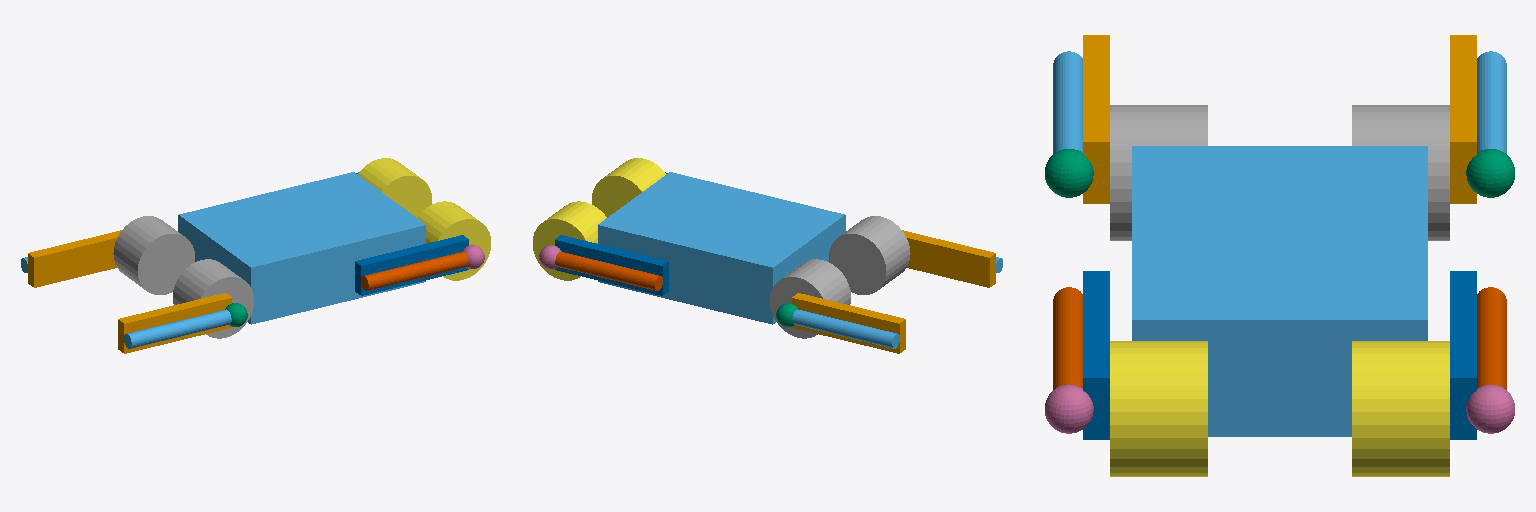
--- Render facts (derived) ---
The picture shows the robot from 3 angles, left to right: view 1: azimuth 30°, elevation 25°; view 2: azimuth 150°, elevation 25°; view 3: azimuth 270°, elevation 25°; orthographic projection.
Model spirit with 19 links and 18 joints (12 revolute, 6 fixed), rooted at body_dummy, posed every joint at zero.
Links seen in each view (by area): view 1: body, hip1, upper1, hip3, hip2, upper2, upper3, hip0, lower3, lower2; view 2: body, hip3, upper3, hip1, hip0, upper0, upper1, hip2, lower1, lower0; view 3: body, hip0, hip2, hip1, hip3, upper0, upper2, upper1, upper3, lower1, lower3, lower0 (+5 smaller).
Link boxes in pixels (box(x1,y1,x2,y2)): body: box(178, 172, 425, 324); hip1: box(113, 216, 194, 294); upper1: box(28, 230, 121, 287); hip3: box(173, 259, 253, 338); hip2: box(417, 201, 490, 280); upper2: box(355, 235, 468, 295); upper3: box(118, 293, 231, 353); hip0: box(358, 158, 431, 217); lower3: box(124, 309, 231, 348); lower2: box(361, 252, 468, 290); body: box(598, 172, 845, 324); hip3: box(829, 216, 910, 294); upper3: box(902, 230, 995, 287); hip1: box(770, 259, 850, 338); hip0: box(533, 201, 606, 280); upper0: box(555, 235, 668, 295); upper1: box(792, 293, 905, 353); hip2: box(592, 158, 665, 217); lower1: box(792, 309, 899, 348); lower0: box(555, 252, 662, 290); body: box(1132, 146, 1427, 436); hip0: box(1352, 341, 1449, 476); hip2: box(1110, 341, 1207, 476); hip1: box(1352, 105, 1449, 240); hip3: box(1110, 105, 1207, 240); upper0: box(1450, 271, 1476, 439); upper2: box(1083, 271, 1109, 439); upper1: box(1450, 35, 1476, 203); upper3: box(1083, 35, 1109, 203); lower1: box(1477, 51, 1506, 153); lower3: box(1053, 51, 1082, 153); lower0: box(1477, 287, 1506, 389).
Size in the robot's own frame: 0.7136 by 0.382 by 0.11 metres.
Geometry: primitives only (box / cylinder / sphere), no mesh files.

robot.urdf — spirit:
<?xml version="1.0" ?>
<!-- =================================================================================== -->
<!-- |    This document was autogenerated by xacro from spirit_gazebo.urdf.xacro     | -->
<!-- |    EDITING THIS FILE BY HAND IS NOT RECOMMENDED                                 | -->
<!-- =================================================================================== -->
<!-- 
MIT License (modified)

Copyright (c) 2020 Ghost Robotics
Authors:
Avik De <[email redacted]>
Tom Jacobs <[email redacted]>

Permission is hereby granted, free of charge, to any person obtaining a copy
of this **file** (the "Software"), to deal
in the Software without restriction, including without limitation the rights
to use, copy, modify, merge, publish, distribute, sublicense, and/or sell
copies of the Software, and to permit persons to whom the Software is
furnished to do so, subject to the following conditions:

The above copyright notice and this permission notice shall be included in all
copies or substantial portions of the Software.

THE SOFTWARE IS PROVIDED "AS IS", WITHOUT WARRANTY OF ANY KIND, EXPRESS OR
IMPLIED, INCLUDING BUT NOT LIMITED TO THE WARRANTIES OF MERCHANTABILITY,
FITNESS FOR A PARTICULAR PURPOSE AND NONINFRINGEMENT. IN NO EVENT SHALL THE
AUTHORS OR COPYRIGHT HOLDERS BE LIABLE FOR ANY CLAIM, DAMAGES OR OTHER
LIABILITY, WHETHER IN AN ACTION OF CONTRACT, TORT OR OTHERWISE, ARISING FROM,
OUT OF OR IN CONNECTION WITH THE SOFTWARE OR THE USE OR OTHER DEALINGS IN THE
SOFTWARE. 
-->
<robot name="spirit" xmlns:xacro="http://www.ros.org/wiki/xacro">
  <!-- Define parameters -->
  <!-- bodyLength + hipdx should be equal to front to back hip distance -->
  <!-- dy +  dPodAxisToEdge + upperLegWidth should be equal to the center to toe distance along y axis-->
  <!-- guess -->
  <!-- guess -->
  <!-- guess -->
  <!-- guess -->
  <!-- guess -->
  <!-- guess -->
  <!--visual only-->
  <!--center of pod cylinder to the ab axis-->

  <link name="body_dummy"/>
  <joint name="dummy_joint" type="fixed">
    <parent link="body_dummy"/>
    <child link="body"/>
    <axis xyz="0 0 0"/>
    <origin xyz="0 0.07 0"/>
  </joint>

  <!-- Body -->
  <link name="body">
    <visual>
      <origin rpy="0 0 0" xyz="0 0 0"/>
      <geometry>
        <box size="0.335 0.24 0.104"/>
      </geometry>
      <material name="darkgray"/>
    </visual>
    <inertial>
      <mass value="5.75"/>
      <!-- Uniform box -->
      <!-- <inertia ixx="1/12*${bodyMass}*(${bodyWidth}*${bodyWidth} + ${bodyHeight}*${bodyHeight})"  ixy="0"  ixz="0" iyy="1/12*${bodyMass}*(${bodyLength}*${bodyLength} + ${bodyHeight}*${bodyHeight})" iyz="0" izz="1/12*${bodyMass}*(${bodyLength}*${bodyLength} + ${bodyWidth}*${bodyWidth})"/> -->
      <inertia ixx="0.05" ixy="0" ixz="0" iyy="0.1" iyz="0" izz="0.1"/>
    </inertial>
    <!-- Just copy geometry for collision -->
    <collision>
      <origin rpy="0 0 0" xyz="0 0 0"/>
      <geometry>
        <box size="0.335 0.24 0.104"/>
      </geometry>
    </collision>
  </link>
  
  <gazebo reference="body">
    <material>Gazebo/Black</material>
  </gazebo>

  <link name="imu_link">
    <visual>
      <origin rpy="0 0 0" xyz="0 0 0"/>
      <geometry>
        <box size="0.05 0.05 0.02"/>
      </geometry>
      <material name="green"/>
    </visual>
  </link>

  <joint name="imu_joint" type="fixed">
    <parent link="body"/>
    <child link="imu_link"/>
    <origin xyz="0 0 0" rpy="0 0 0"/>
  </joint>

  <!-- Define our leg macro -->
  <!-- Our four legs -->
  <!-- Hip motor -->
  <link name="hip0">
    <visual>
      <origin rpy="1.5707963268 0 0" xyz="0.0 0.028 0"/>
      <geometry>
        <cylinder length="0.08" radius="0.055"/>
      </geometry>
    </visual>
    <collision>
      <origin rpy="1.5707963268 0 0" xyz="0 0.028 0"/>
      <geometry>
        <cylinder length="0.08" radius="0.055"/>
      </geometry>
    </collision>
    <inertial>
      <mass value="0.575"/>
      <!-- <inertia ixx="1/12*${podMass}*${podLength}*${podLength} + 1/4*${podMass}*${podRadius}*${podRadius}"  ixy="0"  ixz="0" iyy="1/12*${podMass}*${podLength}*${podLength} + 1/4*${podMass}*${podRadius}*${podRadius}" iyz="0" izz="1/2*${podMass}*${podRadius}*$
				{podRadius}" /> -->
      <inertia ixx="0.00066963541" ixy="0" ixz="0" iyy="0.00066963541" iyz="0" izz="0.0008696875"/>
    </inertial>
  </link>

  <gazebo reference="hip0">
    <material>Gazebo/Grey</material>
  </gazebo>

  <!-- Abduction joint. Joint names are: 8 9 10 11 -->
  <joint name="8" type="revolute">
    <parent link="body"/>
    <child link="hip0"/>
    <axis xyz="1 0 0"/>
    <origin xyz="0.2263 0.07 0"/>
    <limit effort="40" lower="-0.707" upper="0.707" velocity="30"/>
    <dynamics damping="0.0" friction="0.0"/>
  </joint>
  <!-- Transmission elements required for Gazebo -->
  <transmission name="transmission_8">
    <type>transmission_interface/SimpleTransmission</type>
    <joint name="8">
      <hardwareInterface>hardware_interface/EffortJointInterface</hardwareInterface>
    </joint>
    <actuator name="motor_8">
      <hardwareInterface>EffortJointInterface</hardwareInterface>
      <mechanicalReduction>1</mechanicalReduction>
    </actuator>
  </transmission>
  <!-- Upper leg -->
  <link name="upper0">
    <visual>
      <origin rpy="0 0 0" xyz="-0.103 -0.022 0"/>
      <geometry>
        <box size="0.206 0.022 0.055"/>
      </geometry>
      <material name="silver"/>
    </visual>
    <collision>
      <origin rpy="0 0 0" xyz="-0.103 -0.022 0"/>
      <geometry>
        <box size="0.206 0.022 0.055"/>
      </geometry>
    </collision>
    <inertial>
      <mass value="0.775"/>
      <inertia ixx="5e-05" ixy="0" ixz="0" iyy="0.001" iyz="0" izz="0.001"/>
    </inertial>
  </link>
  <gazebo reference="upper0">
    <material>Gazebo/DarkGrey</material>
  </gazebo>
  <!-- Hip joint. (Motor to upper leg). Joint names are: 0 2 4 6 -->
  <joint name="0" type="revolute">
    <parent link="hip0"/>
    <child link="upper0"/>
    <axis xyz="0 -1 0"/>
    <origin xyz="0.0 0.10098 0"/>
    <!--  rpy="0 -0.3 0" -->
    <limit effort="40" lower="-6.28318530718" upper="6.28318530718" velocity="30"/>
    <dynamics damping="0.0" friction="0.0"/>
  </joint>
  <!-- Transmission elements required for Gazebo -->
  <transmission name="transmission_0">
    <type>transmission_interface/SimpleTransmission</type>
    <joint name="0">
      <hardwareInterface>hardware_interface/EffortJointInterface</hardwareInterface>
    </joint>
    <actuator name="motor_0">
      <hardwareInterface>EffortJointInterface</hardwareInterface>
      <mechanicalReduction>1</mechanicalReduction>
    </actuator>
  </transmission>
  <!-- Lower leg -->
  <link name="lower0">
    <visual>
      <origin rpy="0 1.5707963268 0" xyz="0.103 0 0"/>
      <geometry>
        <cylinder length="0.206" radius="0.013"/>
      </geometry>
      <material name="darkgray"/>
    </visual>
    <collision>
      <origin rpy="0 1.5707963268 0" xyz="0.103 0 0"/>
      <geometry>
        <cylinder length="0.206" radius="0.013"/>
      </geometry>
    </collision>
    <inertial>
      <mass value="0.075"/>
      <inertia ixx="5e-06" ixy="0" ixz="0" iyy="0.0001" iyz="0" izz="0.0001"/>
    </inertial>
  </link>
  <gazebo reference="lower0">
    <material>Gazebo/Grey</material>
  </gazebo>
  <!-- Knee joint. Joint names are: 1 3 5 7 -->
  <joint name="1" type="revolute">
    <parent link="upper0"/>
    <child link="lower0"/>
    <axis xyz="0 1 0"/>
    <origin xyz="-0.206 0 0"/>
    <!--rpy="0 0.5 0"-->
    <limit effort="40" lower="0" upper="3.14159265359" velocity="30"/>
    <dynamics damping="0.0" friction="0.0"/>
  </joint>
  <!-- Transmission elements required for Gazebo -->
  <transmission name="transmission_1">
    <type>transmission_interface/SimpleTransmission</type>
    <joint name="1">
      <hardwareInterface>hardware_interface/EffortJointInterface</hardwareInterface>
    </joint>
    <actuator name="motor_1">
      <hardwareInterface>EffortJointInterface</hardwareInterface>
      <mechanicalReduction>1</mechanicalReduction>
    </actuator>
  </transmission>
  <!-- Toe -->
  <link name="toe0">
    <contact>
      <friction_anchor/>
      <stiffness value="30000.0"/>
      <damping value="1000.0"/>
      <spinning_friction value="0.3"/>
      <lateral_friction value="50.0"/>
    </contact>
    <visual>
      <origin rpy="0 0 0" xyz="0 0 0"/>
      <geometry>
        <sphere radius="0.02"/>
      </geometry>
      <material name="darkgray"/>
    </visual>
    <collision>
      <origin rpy="0 0 0" xyz="0 0 0"/>
      <geometry>
        <sphere radius="0.02"/>
      </geometry>
    </collision>
    <inertial>
      <mass value="0.015"/>
      <inertia ixx="0.000025" ixy="0" ixz="0" iyy="0.000025" iyz="0" izz="0.000025"/>
      <!-- <inertia ixx="2/5*${toeMass}*${toeRadius}*${toeRadius}"  ixy="0"  ixz="0" iyy="2/5*${toeMass}*${toeRadius}*${toeRadius}" iyz="0" izz="2/5*${toeMass}*${toeRadius}*${toeRadius}" /> -->
    </inertial>
  </link>
  <gazebo reference="toe0">
    <material>Gazebo/Black</material>
    <collision>
      <surface>
        <bounce>
          <restitution_coefficient>0</restitution_coefficient>
          <threshold>1e+06</threshold>
        </bounce>
        <friction>
          <torsional>
            <coefficient>0.3</coefficient>
          </torsional>
          <ode>
            <mu>100.0</mu>
            <mu2>50.0</mu2>
          </ode>
          <bullet>
            <rolling_friction>0.3</rolling_friction>
            <friction2>50.0</friction2>
          </bullet>
        </friction>
        <contact>
          <bullet>
            <kp>30000.0</kp>
            <kd>1000.0</kd>
          </bullet>
          <ode>
            <kp>30000.0</kp>
            <kd>1000.0</kd>
          </ode>
        </contact>
      </surface>
    </collision>
  </gazebo>
  <joint name="jtoe0" type="fixed">
    <parent link="lower0"/>
    <child link="toe0"/>
    <origin xyz="0.206 0 -0.0"/>
    <dynamics damping="0.0" friction="0.0"/>
  </joint>
  <!-- Hip motor -->
  <link name="hip1">
    <visual>
      <origin rpy="1.5707963268 0 0" xyz="-0.0 0.028 0"/>
      <geometry>
        <cylinder length="0.08" radius="0.055"/>
      </geometry>
    </visual>
    <collision>
      <origin rpy="1.5707963268 0 0" xyz="0 0.028 0"/>
      <geometry>
        <cylinder length="0.08" radius="0.055"/>
      </geometry>
    </collision>
    <inertial>
      <mass value="0.575"/>
      <!-- <inertia ixx="1/12*${podMass}*${podLength}*${podLength} + 1/4*${podMass}*${podRadius}*${podRadius}"  ixy="0"  ixz="0" iyy="1/12*${podMass}*${podLength}*${podLength} + 1/4*${podMass}*${podRadius}*${podRadius}" iyz="0" izz="1/2*${podMass}*${podRadius}*$
				{podRadius}" /> -->
      <inertia ixx="0.00066963541" ixy="0" ixz="0" iyy="0.00066963541" iyz="0" izz="0.0008696875"/>
    </inertial>
  </link>
  <gazebo reference="hip1">
    <material>Gazebo/Grey</material>
  </gazebo>
  <!-- Abduction joint. Joint names are: 8 9 10 11 -->
  <joint name="9" type="revolute">
    <parent link="body"/>
    <child link="hip1"/>
    <axis xyz="1 0 0"/>
    <origin xyz="-0.2263 0.07 0"/>
    <limit effort="40" lower="-0.707" upper="0.707" velocity="30"/>
    <dynamics damping="0.0" friction="0.0"/>
  </joint>
  <!-- Transmission elements required for Gazebo -->
  <transmission name="transmission_9">
    <type>transmission_interface/SimpleTransmission</type>
    <joint name="9">
      <hardwareInterface>hardware_interface/EffortJointInterface</hardwareInterface>
    </joint>
    <actuator name="motor_9">
      <hardwareInterface>EffortJointInterface</hardwareInterface>
      <mechanicalReduction>1</mechanicalReduction>
    </actuator>
  </transmission>
  <!-- Upper leg -->
  <link name="upper1">
    <visual>
      <origin rpy="0 0 0" xyz="-0.103 -0.022 0"/>
      <geometry>
        <box size="0.206 0.022 0.055"/>
      </geometry>
      <material name="silver"/>
    </visual>
    <collision>
      <origin rpy="0 0 0" xyz="-0.103 -0.022 0"/>
      <geometry>
        <box size="0.206 0.022 0.055"/>
      </geometry>
    </collision>
    <inertial>
      <mass value="0.775"/>
      <inertia ixx="5e-05" ixy="0" ixz="0" iyy="0.001" iyz="0" izz="0.001"/>
    </inertial>
  </link>
  <gazebo reference="upper1">
    <material>Gazebo/DarkGrey</material>
  </gazebo>
  <!-- Hip joint. (Motor to upper leg). Joint names are: 0 2 4 6 -->
  <joint name="2" type="revolute">
    <parent link="hip1"/>
    <child link="upper1"/>
    <axis xyz="0 -1 0"/>
    <origin xyz="-0.0 0.10098 0"/>
    <!--  rpy="0 -0.3 0" -->
    <limit effort="40" lower="-6.28318530718" upper="6.28318530718" velocity="30"/>
    <dynamics damping="0.0" friction="0.0"/>
  </joint>
  <!-- Transmission elements required for Gazebo -->
  <transmission name="transmission_2">
    <type>transmission_interface/SimpleTransmission</type>
    <joint name="2">
      <hardwareInterface>hardware_interface/EffortJointInterface</hardwareInterface>
    </joint>
    <actuator name="motor_2">
      <hardwareInterface>EffortJointInterface</hardwareInterface>
      <mechanicalReduction>1</mechanicalReduction>
    </actuator>
  </transmission>
  <!-- Lower leg -->
  <link name="lower1">
    <visual>
      <origin rpy="0 1.5707963268 0" xyz="0.103 0 0"/>
      <geometry>
        <cylinder length="0.206" radius="0.013"/>
      </geometry>
      <material name="darkgray"/>
    </visual>
    <collision>
      <origin rpy="0 1.5707963268 0" xyz="0.103 0 0"/>
      <geometry>
        <cylinder length="0.206" radius="0.013"/>
      </geometry>
    </collision>
    <inertial>
      <mass value="0.075"/>
      <inertia ixx="5e-06" ixy="0" ixz="0" iyy="0.0001" iyz="0" izz="0.0001"/>
    </inertial>
  </link>
  <gazebo reference="lower1">
    <material>Gazebo/Grey</material>
  </gazebo>
  <!-- Knee joint. Joint names are: 1 3 5 7 -->
  <joint name="3" type="revolute">
    <parent link="upper1"/>
    <child link="lower1"/>
    <axis xyz="0 1 0"/>
    <origin xyz="-0.206 0 0"/>
    <!--rpy="0 0.5 0"-->
    <limit effort="40" lower="0" upper="3.14159265359" velocity="30"/>
    <dynamics damping="0.0" friction="0.0"/>
  </joint>
  <!-- Transmission elements required for Gazebo -->
  <transmission name="transmission_3">
    <type>transmission_interface/SimpleTransmission</type>
    <joint name="3">
      <hardwareInterface>hardware_interface/EffortJointInterface</hardwareInterface>
    </joint>
    <actuator name="motor_3">
      <hardwareInterface>EffortJointInterface</hardwareInterface>
      <mechanicalReduction>1</mechanicalReduction>
    </actuator>
  </transmission>
  <!-- Toe -->
  <link name="toe1">
    <contact>
      <friction_anchor/>
      <stiffness value="30000.0"/>
      <damping value="1000.0"/>
      <spinning_friction value="0.3"/>
      <lateral_friction value="50.0"/>
    </contact>
    <visual>
      <origin rpy="0 0 0" xyz="0 0 0"/>
      <geometry>
        <sphere radius="0.02"/>
      </geometry>
      <material name="darkgray"/>
    </visual>
    <collision>
      <origin rpy="0 0 0" xyz="0 0 0"/>
      <geometry>
        <sphere radius="0.02"/>
      </geometry>
    </collision>
    <inertial>
      <mass value="0.015"/>
      <inertia ixx="0.000025" ixy="0" ixz="0" iyy="0.000025" iyz="0" izz="0.000025"/>
      <!-- <inertia ixx="2/5*${toeMass}*${toeRadius}*${toeRadius}"  ixy="0"  ixz="0" iyy="2/5*${toeMass}*${toeRadius}*${toeRadius}" iyz="0" izz="2/5*${toeMass}*${toeRadius}*${toeRadius}" /> -->
    </inertial>
  </link>
  <gazebo reference="toe1">
    <material>Gazebo/Black</material>
    <collision>
      <surface>
        <bounce>
          <restitution_coefficient>0</restitution_coefficient>
          <threshold>1e+06</threshold>
        </bounce>
        <friction>
          <torsional>
            <coefficient>0.3</coefficient>
          </torsional>
          <ode>
            <mu>100.0</mu>
            <mu2>50.0</mu2>
          </ode>
          <bullet>
            <rolling_friction>0.3</rolling_friction>
            <friction2>50.0</friction2>
          </bullet>
        </friction>
        <contact>
          <bullet>
            <kp>30000.0</kp>
            <kd>1000.0</kd>
          </bullet>
          <ode>
            <kp>30000.0</kp>
            <kd>1000.0</kd>
          </ode>
        </contact>
      </surface>
    </collision>
  </gazebo>
  <joint name="jtoe1" type="fixed">
    <parent link="lower1"/>
    <child link="toe1"/>
    <origin xyz="0.206 0 -0.0"/>
    <dynamics damping="0.0" friction="0.0"/>
  </joint>
  <!-- Hip motor -->
  <link name="hip2">
    <visual>
      <origin rpy="1.5707963268 0 0" xyz="0.0 -0.028 0"/>
      <geometry>
        <cylinder length="0.08" radius="0.055"/>
      </geometry>
    </visual>
    <collision>
      <origin rpy="1.5707963268 0 0" xyz="0 -0.028 0"/>
      <geometry>
        <cylinder length="0.08" radius="0.055"/>
      </geometry>
    </collision>
    <inertial>
      <mass value="0.575"/>
      <!-- <inertia ixx="1/12*${podMass}*${podLength}*${podLength} + 1/4*${podMass}*${podRadius}*${podRadius}"  ixy="0"  ixz="0" iyy="1/12*${podMass}*${podLength}*${podLength} + 1/4*${podMass}*${podRadius}*${podRadius}" iyz="0" izz="1/2*${podMass}*${podRadius}*$
				{podRadius}" /> -->
      <inertia ixx="0.00066963541" ixy="0" ixz="0" iyy="0.00066963541" iyz="0" izz="0.0008696875"/>
    </inertial>
  </link>
  <gazebo reference="hip2">
    <material>Gazebo/Grey</material>
  </gazebo>
  <!-- Abduction joint. Joint names are: 8 9 10 11 -->
  <joint name="10" type="revolute">
    <parent link="body"/>
    <child link="hip2"/>
    <axis xyz="1 0 0"/>
    <origin xyz="0.2263 -0.07 0"/>
    <limit effort="40" lower="-0.707" upper="0.707" velocity="30"/>
    <dynamics damping="0.0" friction="0.0"/>
  </joint>
  <!-- Transmission elements required for Gazebo -->
  <transmission name="transmission_10">
    <type>transmission_interface/SimpleTransmission</type>
    <joint name="10">
      <hardwareInterface>hardware_interface/EffortJointInterface</hardwareInterface>
    </joint>
    <actuator name="motor_10">
      <hardwareInterface>EffortJointInterface</hardwareInterface>
      <mechanicalReduction>1</mechanicalReduction>
    </actuator>
  </transmission>
  <!-- Upper leg -->
  <link name="upper2">
    <visual>
      <origin rpy="0 0 0" xyz="-0.103 0.022 0"/>
      <geometry>
        <box size="0.206 0.022 0.055"/>
      </geometry>
      <material name="silver"/>
    </visual>
    <collision>
      <origin rpy="0 0 0" xyz="-0.103 0.022 0"/>
      <geometry>
        <box size="0.206 0.022 0.055"/>
      </geometry>
    </collision>
    <inertial>
      <mass value="0.775"/>
      <inertia ixx="5e-05" ixy="0" ixz="0" iyy="0.001" iyz="0" izz="0.001"/>
    </inertial>
  </link>
  <gazebo reference="upper2">
    <material>Gazebo/DarkGrey</material>
  </gazebo>
  <!-- Hip joint. (Motor to upper leg). Joint names are: 0 2 4 6 -->
  <joint name="4" type="revolute">
    <parent link="hip2"/>
    <child link="upper2"/>
    <axis xyz="0 -1 0"/>
    <origin xyz="0.0 -0.10098 0"/>
    <!--  rpy="0 -0.3 0" -->
    <limit effort="40" lower="-6.28318530718" upper="6.28318530718" velocity="30"/>
    <dynamics damping="0.0" friction="0.0"/>
  </joint>
  <!-- Transmission elements required for Gazebo -->
  <transmission name="transmission_4">
    <type>transmission_interface/SimpleTransmission</type>
    <joint name="4">
      <hardwareInterface>hardware_interface/EffortJointInterface</hardwareInterface>
    </joint>
    <actuator name="motor_4">
      <hardwareInterface>EffortJointInterface</hardwareInterface>
      <mechanicalReduction>1</mechanicalReduction>
    </actuator>
  </transmission>
  <!-- Lower leg -->
  <link name="lower2">
    <visual>
      <origin rpy="0 1.5707963268 0" xyz="0.103 0 0"/>
      <geometry>
        <cylinder length="0.206" radius="0.013"/>
      </geometry>
      <material name="darkgray"/>
    </visual>
    <collision>
      <origin rpy="0 1.5707963268 0" xyz="0.103 0 0"/>
      <geometry>
        <cylinder length="0.206" radius="0.013"/>
      </geometry>
    </collision>
    <inertial>
      <mass value="0.075"/>
      <inertia ixx="5e-06" ixy="0" ixz="0" iyy="0.0001" iyz="0" izz="0.0001"/>
    </inertial>
  </link>
  <gazebo reference="lower2">
    <material>Gazebo/Grey</material>
  </gazebo>
  <!-- Knee joint. Joint names are: 1 3 5 7 -->
  <joint name="5" type="revolute">
    <parent link="upper2"/>
    <child link="lower2"/>
    <axis xyz="0 1 0"/>
    <origin xyz="-0.206 0 0"/>
    <!--rpy="0 0.5 0"-->
    <limit effort="40" lower="0" upper="3.14159265359" velocity="30"/>
    <dynamics damping="0.0" friction="0.0"/>
  </joint>
  <!-- Transmission elements required for Gazebo -->
  <transmission name="transmission_5">
    <type>transmission_interface/SimpleTransmission</type>
    <joint name="5">
      <hardwareInterface>hardware_interface/EffortJointInterface</hardwareInterface>
    </joint>
    <actuator name="motor_5">
      <hardwareInterface>EffortJointInterface</hardwareInterface>
      <mechanicalReduction>1</mechanicalReduction>
    </actuator>
  </transmission>
  <!-- Toe -->
  <link name="toe2">
    <contact>
      <friction_anchor/>
      <stiffness value="30000.0"/>
      <damping value="1000.0"/>
      <spinning_friction value="0.3"/>
      <lateral_friction value="50.0"/>
    </contact>
    <visual>
      <origin rpy="0 0 0" xyz="0 0 0"/>
      <geometry>
        <sphere radius="0.02"/>
      </geometry>
      <material name="darkgray"/>
    </visual>
    <collision>
      <origin rpy="0 0 0" xyz="0 0 0"/>
      <geometry>
        <sphere radius="0.02"/>
      </geometry>
    </collision>
    <inertial>
      <mass value="0.015"/>
      <inertia ixx="0.000025" ixy="0" ixz="0" iyy="0.000025" iyz="0" izz="0.000025"/>
      <!-- <inertia ixx="2/5*${toeMass}*${toeRadius}*${toeRadius}"  ixy="0"  ixz="0" iyy="2/5*${toeMass}*${toeRadius}*${toeRadius}" iyz="0" izz="2/5*${toeMass}*${toeRadius}*${toeRadius}" /> -->
    </inertial>
  </link>
  <gazebo reference="toe2">
    <material>Gazebo/Black</material>
    <collision>
      <surface>
        <bounce>
          <restitution_coefficient>0</restitution_coefficient>
          <threshold>1e+06</threshold>
        </bounce>
        <friction>
          <torsional>
            <coefficient>0.3</coefficient>
          </torsional>
          <ode>
            <mu>100.0</mu>
            <mu2>50.0</mu2>
          </ode>
          <bullet>
            <rolling_friction>0.3</rolling_friction>
            <friction2>50.0</friction2>
          </bullet>
        </friction>
        <contact>
          <bullet>
            <kp>30000.0</kp>
            <kd>1000.0</kd>
          </bullet>
          <ode>
            <kp>30000.0</kp>
            <kd>1000.0</kd>
          </ode>
        </contact>
      </surface>
    </collision>
  </gazebo>
  <joint name="jtoe2" type="fixed">
    <parent link="lower2"/>
    <child link="toe2"/>
    <origin xyz="0.206 0 -0.0"/>
    <dynamics damping="0.0" friction="0.0"/>
  </joint>
  <!-- Hip motor -->
  <link name="hip3">
    <visual>
      <origin rpy="1.5707963268 0 0" xyz="-0.0 -0.028 0"/>
      <geometry>
        <cylinder length="0.08" radius="0.055"/>
      </geometry>
    </visual>
    <collision>
      <origin rpy="1.5707963268 0 0" xyz="0 -0.028 0"/>
      <geometry>
        <cylinder length="0.08" radius="0.055"/>
      </geometry>
    </collision>
    <inertial>
      <mass value="0.575"/>
      <!-- <inertia ixx="1/12*${podMass}*${podLength}*${podLength} + 1/4*${podMass}*${podRadius}*${podRadius}"  ixy="0"  ixz="0" iyy="1/12*${podMass}*${podLength}*${podLength} + 1/4*${podMass}*${podRadius}*${podRadius}" iyz="0" izz="1/2*${podMass}*${podRadius}*$
				{podRadius}" /> -->
      <inertia ixx="0.00066963541" ixy="0" ixz="0" iyy="0.00066963541" iyz="0" izz="0.0008696875"/>
    </inertial>
  </link>
  <gazebo reference="hip3">
    <material>Gazebo/Grey</material>
  </gazebo>
  <!-- Abduction joint. Joint names are: 8 9 10 11 -->
  <joint name="11" type="revolute">
    <parent link="body"/>
    <child link="hip3"/>
    <axis xyz="1 0 0"/>
    <origin xyz="-0.2263 -0.07 0"/>
    <limit effort="40" lower="-0.707" upper="0.707" velocity="30"/>
    <dynamics damping="0.0" friction="0.0"/>
  </joint>
  <!-- Transmission elements required for Gazebo -->
  <transmission name="transmission_11">
    <type>transmission_interface/SimpleTransmission</type>
    <joint name="11">
      <hardwareInterface>hardware_interface/EffortJointInterface</hardwareInterface>
    </joint>
    <actuator name="motor_11">
      <hardwareInterface>EffortJointInterface</hardwareInterface>
      <mechanicalReduction>1</mechanicalReduction>
    </actuator>
  </transmission>
  <!-- Upper leg -->
  <link name="upper3">
    <visual>
      <origin rpy="0 0 0" xyz="-0.103 0.022 0"/>
      <geometry>
        <box size="0.206 0.022 0.055"/>
      </geometry>
      <material name="silver"/>
    </visual>
    <collision>
      <origin rpy="0 0 0" xyz="-0.103 0.022 0"/>
      <geometry>
        <box size="0.206 0.022 0.055"/>
      </geometry>
    </collision>
    <inertial>
      <mass value="0.775"/>
      <inertia ixx="5e-05" ixy="0" ixz="0" iyy="0.001" iyz="0" izz="0.001"/>
    </inertial>
  </link>
  <gazebo reference="upper3">
    <material>Gazebo/DarkGrey</material>
  </gazebo>
  <!-- Hip joint. (Motor to upper leg). Joint names are: 0 2 4 6 -->
  <joint name="6" type="revolute">
    <parent link="hip3"/>
    <child link="upper3"/>
    <axis xyz="0 -1 0"/>
    <origin xyz="-0.0 -0.10098 0"/>
    <!--  rpy="0 -0.3 0" -->
    <limit effort="40" lower="-6.28318530718" upper="6.28318530718" velocity="30"/>
    <dynamics damping="0.0" friction="0.0"/>
  </joint>
  <!-- Transmission elements required for Gazebo -->
  <transmission name="transmission_6">
    <type>transmission_interface/SimpleTransmission</type>
    <joint name="6">
      <hardwareInterface>hardware_interface/EffortJointInterface</hardwareInterface>
    </joint>
    <actuator name="motor_6">
      <hardwareInterface>EffortJointInterface</hardwareInterface>
      <mechanicalReduction>1</mechanicalReduction>
    </actuator>
  </transmission>
  <!-- Lower leg -->
  <link name="lower3">
    <visual>
      <origin rpy="0 1.5707963268 0" xyz="0.103 0 0"/>
      <geometry>
        <cylinder length="0.206" radius="0.013"/>
      </geometry>
      <material name="darkgray"/>
    </visual>
    <collision>
      <origin rpy="0 1.5707963268 0" xyz="0.103 0 0"/>
      <geometry>
        <cylinder length="0.206" radius="0.013"/>
      </geometry>
    </collision>
    <inertial>
      <mass value="0.075"/>
      <inertia ixx="5e-06" ixy="0" ixz="0" iyy="0.0001" iyz="0" izz="0.0001"/>
    </inertial>
  </link>
  <gazebo reference="lower3">
    <material>Gazebo/Grey</material>
  </gazebo>
  <!-- Knee joint. Joint names are: 1 3 5 7 -->
  <joint name="7" type="revolute">
    <parent link="upper3"/>
    <child link="lower3"/>
    <axis xyz="0 1 0"/>
    <origin xyz="-0.206 0 0"/>
    <!--rpy="0 0.5 0"-->
    <limit effort="40" lower="0" upper="3.14159265359" velocity="30"/>
    <dynamics damping="0.0" friction="0.0"/>
  </joint>
  <!-- Transmission elements required for Gazebo -->
  <transmission name="transmission_7">
    <type>transmission_interface/SimpleTransmission</type>
    <joint name="7">
      <hardwareInterface>hardware_interface/EffortJointInterface</hardwareInterface>
    </joint>
    <actuator name="motor_7">
      <hardwareInterface>EffortJointInterface</hardwareInterface>
      <mechanicalReduction>1</mechanicalReduction>
    </actuator>
  </transmission>
  <!-- Toe -->
  <link name="toe3">
    <contact>
      <friction_anchor/>
      <stiffness value="30000.0"/>
      <damping value="1000.0"/>
      <spinning_friction value="0.3"/>
      <lateral_friction value="50.0"/>
    </contact>
    <visual>
      <origin rpy="0 0 0" xyz="0 0 0"/>
      <geometry>
        <sphere radius="0.02"/>
      </geometry>
      <material name="darkgray"/>
    </visual>
    <collision>
      <origin rpy="0 0 0" xyz="0 0 0"/>
      <geometry>
        <sphere radius="0.02"/>
      </geometry>
    </collision>
    <inertial>
      <mass value="0.015"/>
      <inertia ixx="0.000025" ixy="0" ixz="0" iyy="0.000025" iyz="0" izz="0.000025"/>
      <!-- <inertia ixx="2/5*${toeMass}*${toeRadius}*${toeRadius}"  ixy="0"  ixz="0" iyy="2/5*${toeMass}*${toeRadius}*${toeRadius}" iyz="0" izz="2/5*${toeMass}*${toeRadius}*${toeRadius}" /> -->
    </inertial>
  </link>
  <gazebo reference="toe3">
    <material>Gazebo/Black</material>
    <collision>
      <surface>
        <bounce>
          <restitution_coefficient>0</restitution_coefficient>
          <threshold>1e+06</threshold>
        </bounce>
        <friction>
          <torsional>
            <coefficient>0.3</coefficient>
          </torsional>
          <ode>
            <mu>100.0</mu>
            <mu2>50.0</mu2>
          </ode>
          <bullet>
            <rolling_friction>0.3</rolling_friction>
            <friction2>50.0</friction2>
          </bullet>
        </friction>
        <contact>
          <bullet>
            <kp>30000.0</kp>
            <kd>1000.0</kd>
          </bullet>
          <ode>
            <kp>30000.0</kp>
            <kd>1000.0</kd>
          </ode>
        </contact>
      </surface>
    </collision>
  </gazebo>
  <joint name="jtoe3" type="fixed">
    <parent link="lower3"/>
    <child link="toe3"/>
    <origin xyz="0.206 0 -0.0"/>
    <dynamics damping="0.0" friction="0.0"/>
  </joint>
</robot>
